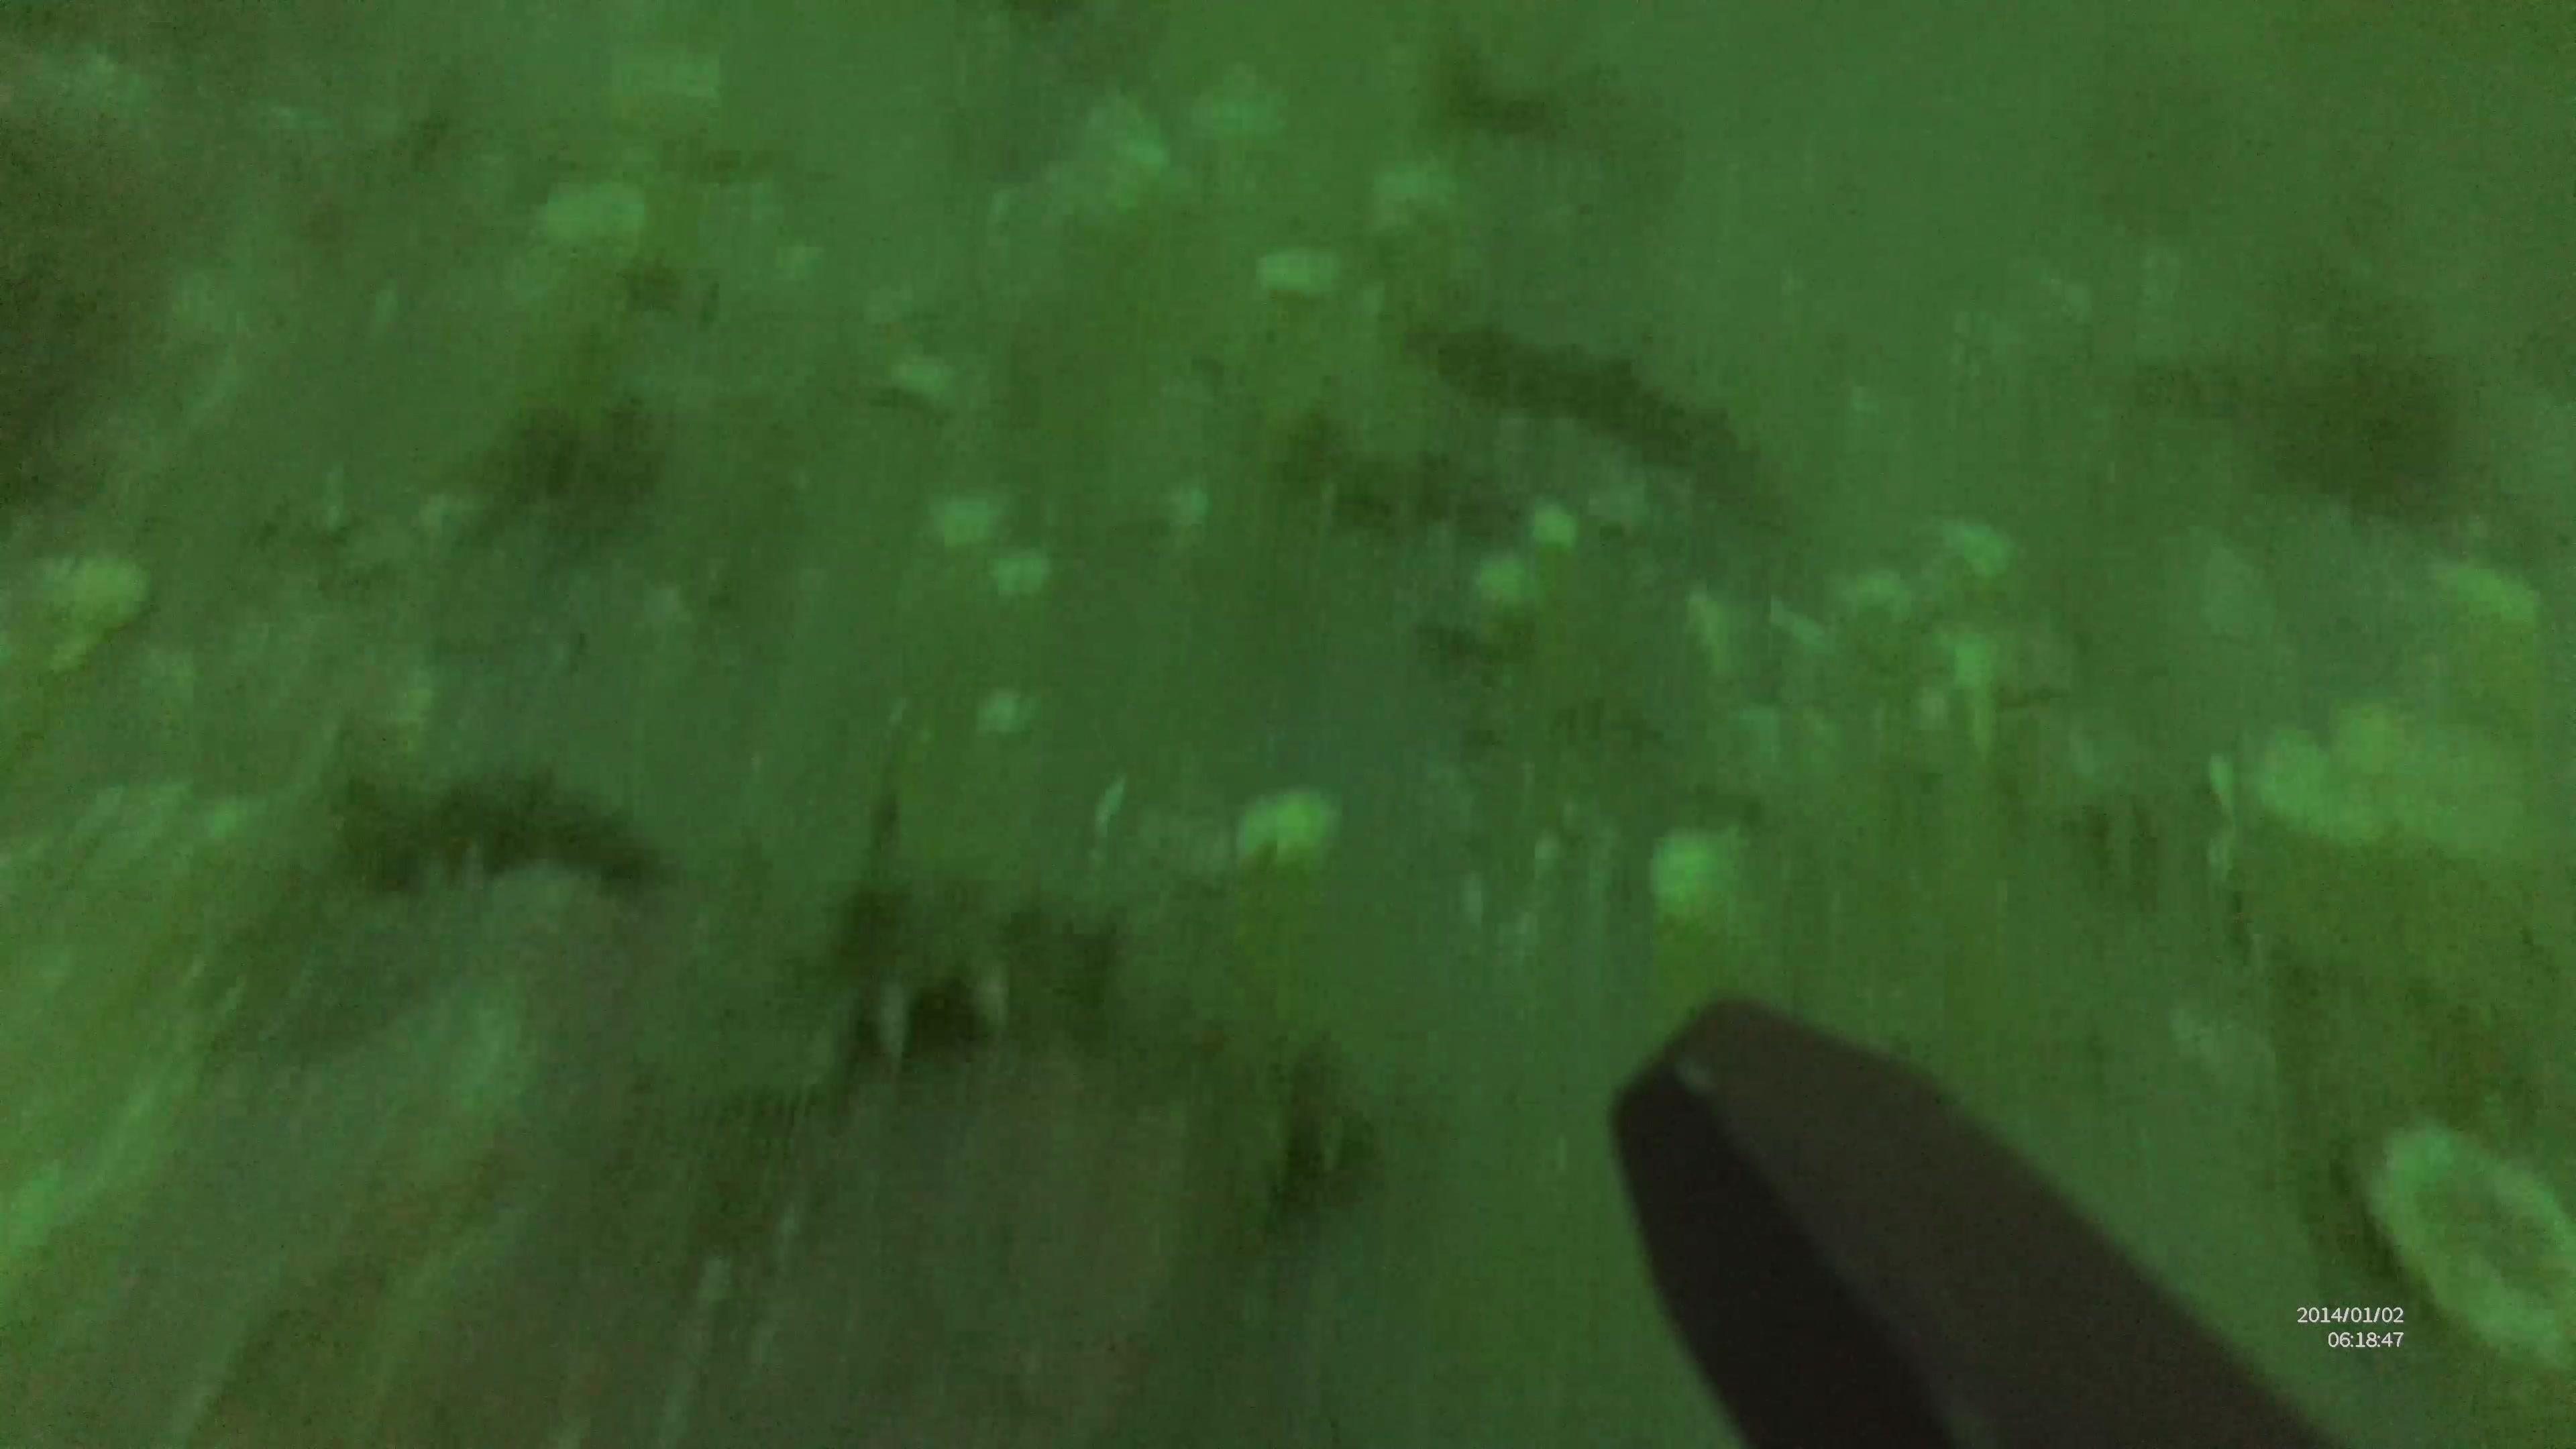holothurian: (782, 791, 1378, 1200), (326, 748, 678, 908)
